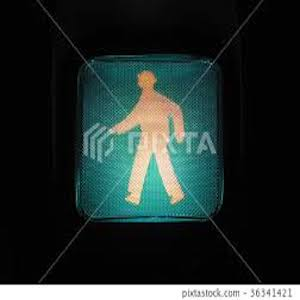red: (110, 68, 193, 201)
